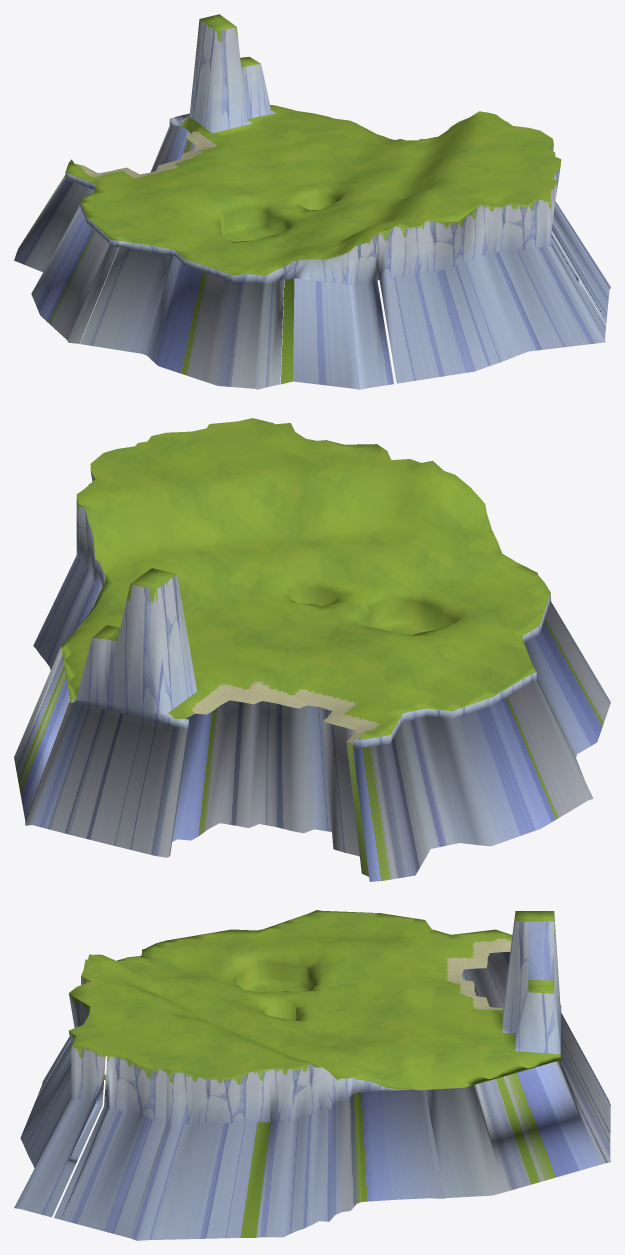
File: island0.glb
3 renders of one model, top to bottom at view 1: azimuth 30°, elevation 25°; view 2: azimuth 150°, elevation 25°; view 3: azimuth 270°, elevation 25°, orthographic. The views are drawn at different scales.
Visible parts, largest first — view 1: Grid, beach_edge; view 2: Grid, beach_edge; view 3: Grid, beach_edge.
Boxes of the visible parts, x1,y1,x2,y2 form: Grid: [14, 14, 610, 389]; beach_edge: [78, 131, 217, 178]; Grid: [14, 418, 610, 881]; beach_edge: [191, 681, 379, 744]; Grid: [14, 910, 610, 1240]; beach_edge: [446, 938, 511, 1009].
Bounding box in the file's own units: 232 × 90.89 × 231.
Materials: 5 (5 with a texture image).
